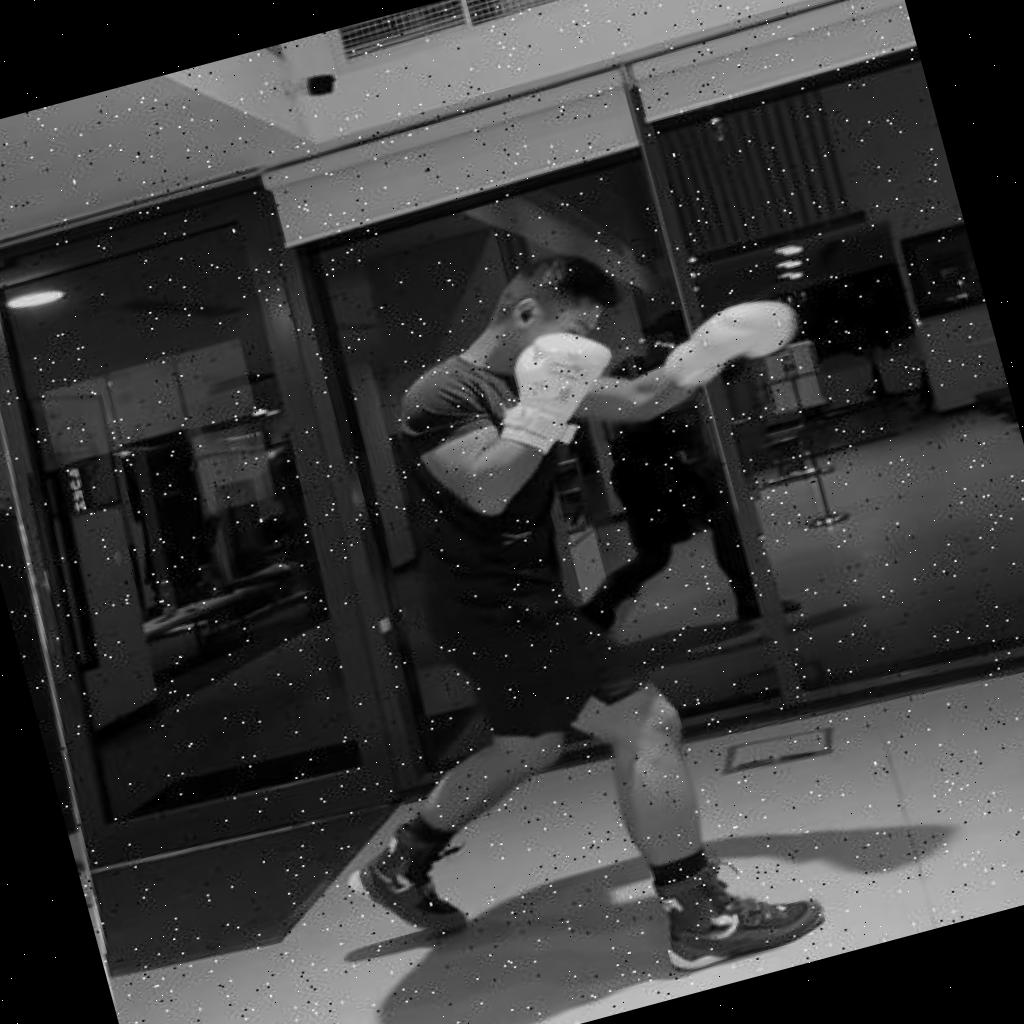cross: (206, 196, 955, 1024)
